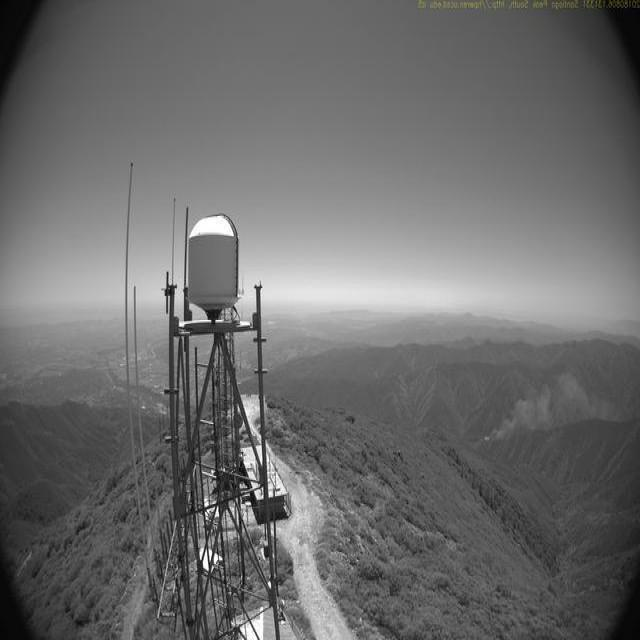smoke: (483, 367, 635, 448)
